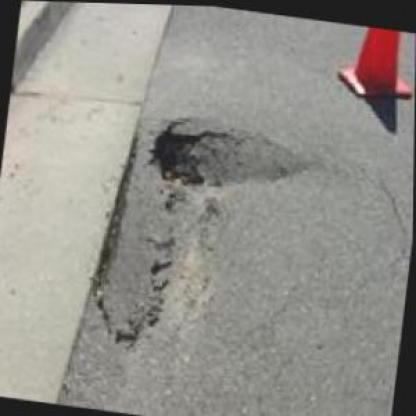pothole: (82, 108, 193, 354), (144, 114, 312, 201)
